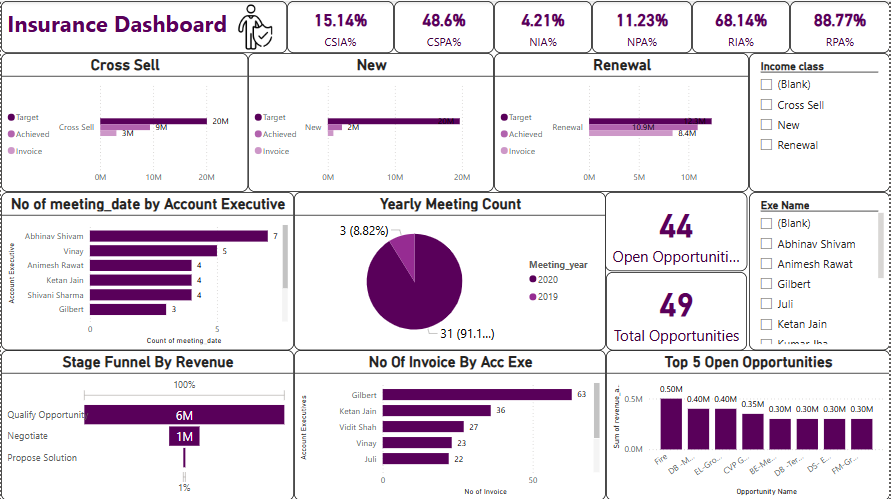

Layout of this report page (visuals, bound fields, positions):
{"tool":"powerbi","page":{"name":"Page 8","canvas":[1280,720],"ordinal":6},"visuals":[{"type":"textbox","box":[0,0,401.8,74.9],"z":0},{"type":"clusteredBarChart","title":"Cross Sell","fields":{"Y":["insurance stage.Cross_target","insurance stage.Cross-achieved","insurance stage.Cross-invoice"]},"box":[0,75.4,331.9,201.4],"z":1000},{"type":"clusteredBarChart","title":"New","fields":{"Y":["insurance stage.New_target","insurance stage.New-achieved","insurance stage.New-invoice"]},"box":[343.5,75.4,343.5,201.4],"z":2000},{"type":"clusteredBarChart","title":"Renewal","fields":{"Y":["insurance stage.Renewal_target","insurance stage.Renewal-achieved","insurance stage.Renewal-invoice"]},"box":[697.1,75.4,366.7,201.4],"z":3000},{"type":"slicer","fields":{"Values":["insurance stage.Income class"]},"box":[1076.8,75.4,189.9,200],"z":4000},{"type":"barChart","title":"No Of Invoice By Acc Exe","fields":{"Y":["CountNonNull(insurance invoice.ï»¿invoice_number)"],"Category":["insurance invoice.Account Executive"]},"box":[421.7,502.9,449.3,217.4],"z":5000},{"type":"funnel","title":" Stage Funnel By Revenue","fields":{"Category":["insurance opportunity.stage"],"Y":["Sum(insurance opportunity.revenue_amount)"]},"box":[0,502.9,421.7,217.4],"z":6000},{"type":"columnChart","title":"Top 5 Open Opportunities","fields":{"Category":["insurance opportunity.ï»¿opportunity_name"],"Y":["Sum(insurance opportunity.revenue_amount)"]},"box":[871,502.9,408.7,217.4],"z":7000},{"type":"barChart","title":"No of meeting_date by Account Executive","fields":{"Y":["CountNonNull(insurance meeting.meeting_date)"],"Category":["insurance meeting.Account Executive"]},"box":[0,275.4,421.7,227.5],"z":8000},{"type":"pieChart","title":"Yearly Meeting Count","fields":{"Category":["insurance meeting.Meeting_year"],"Y":["CountNonNull(insurance meeting.meeting_date)"]},"box":[421.7,275.4,449.3,227.5],"z":9000},{"type":"card","fields":{"Values":["CountNonNull(insurance opportunity.opportunity_id)"]},"box":[871,275.4,204.3,227.5],"z":10000},{"type":"slicer","fields":{"Values":["insurance opportunity.stage"]},"box":[1077,275,190,228],"z":11000}]}

Visuals, with their boxes in screenshot pixels (x1, y1, x2, y2), scaled from the page's 1280x720 canvas onto the 891x499 screenshot:
textbox: detection(0, 0, 280, 52)
"Cross Sell" clusteredBarChart: detection(0, 52, 231, 192)
"New" clusteredBarChart: detection(239, 52, 478, 192)
"Renewal" clusteredBarChart: detection(485, 52, 741, 192)
slicer - insurance stage.Income class: detection(750, 52, 882, 191)
"No Of Invoice By Acc Exe" barChart: detection(294, 349, 606, 498)
" Stage Funnel By Revenue" funnel: detection(0, 349, 294, 498)
"Top 5 Open Opportunities" columnChart: detection(606, 349, 890, 498)
"No of meeting_date by Account Executive" barChart: detection(0, 191, 294, 349)
"Yearly Meeting Count" pieChart: detection(294, 191, 606, 349)
card - CountNonNull(insurance opportunity.opportunity_id): detection(606, 191, 749, 349)
slicer - insurance opportunity.stage: detection(750, 191, 882, 349)
